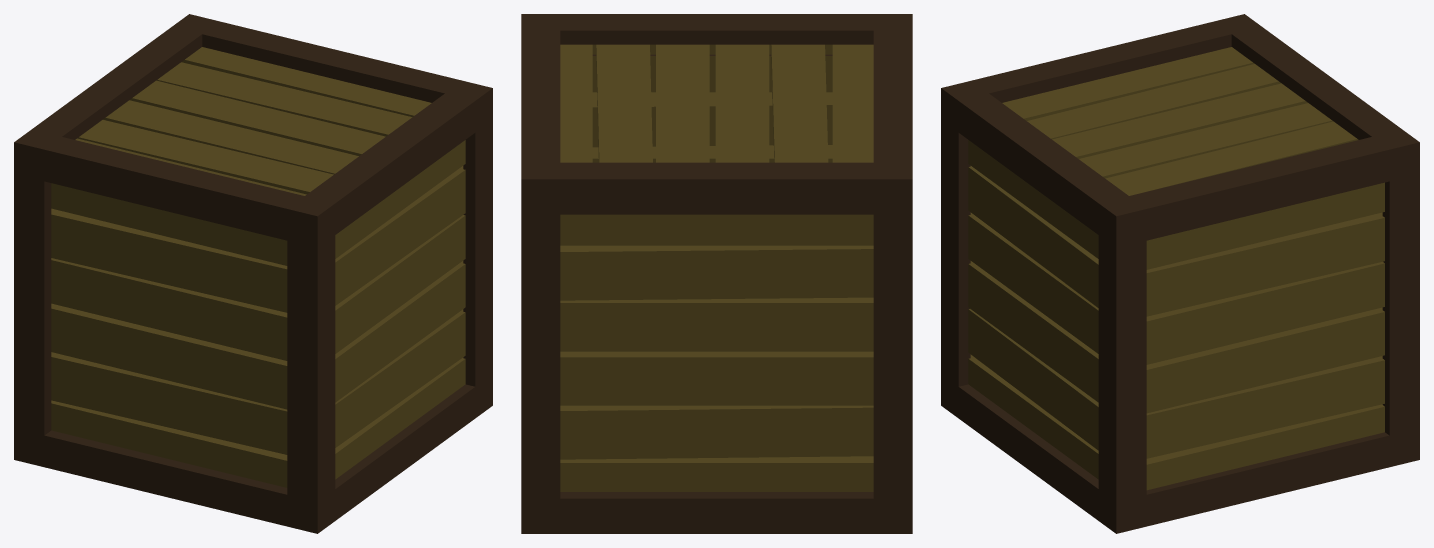
3 renders of one model, left to right at view 1: azimuth 30°, elevation 25°; view 2: azimuth 150°, elevation 25°; view 3: azimuth 270°, elevation 25°, orthographic. The views are drawn at different scales.
Parts seen in each view (by area): view 1: ящик; view 2: ящик; view 3: ящик.
Boxes of the visible parts, box(x1,y1,x2,y2) form: ящик: box(14, 14, 492, 533); ящик: box(521, 14, 912, 533); ящик: box(941, 14, 1419, 533).
Size of the model in its own units: 7.35 by 5.38 by 7.35.
